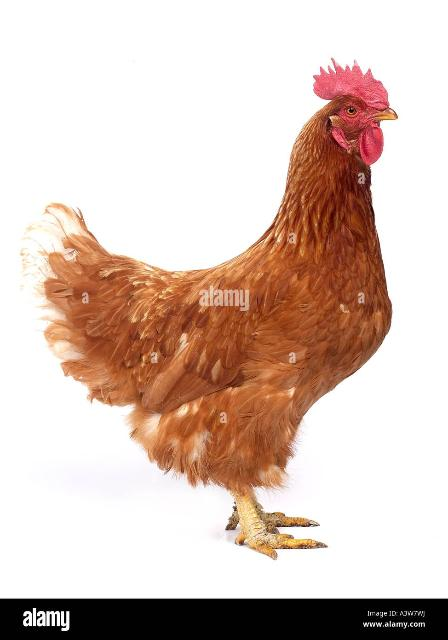Chicken: (21, 54, 400, 567)
